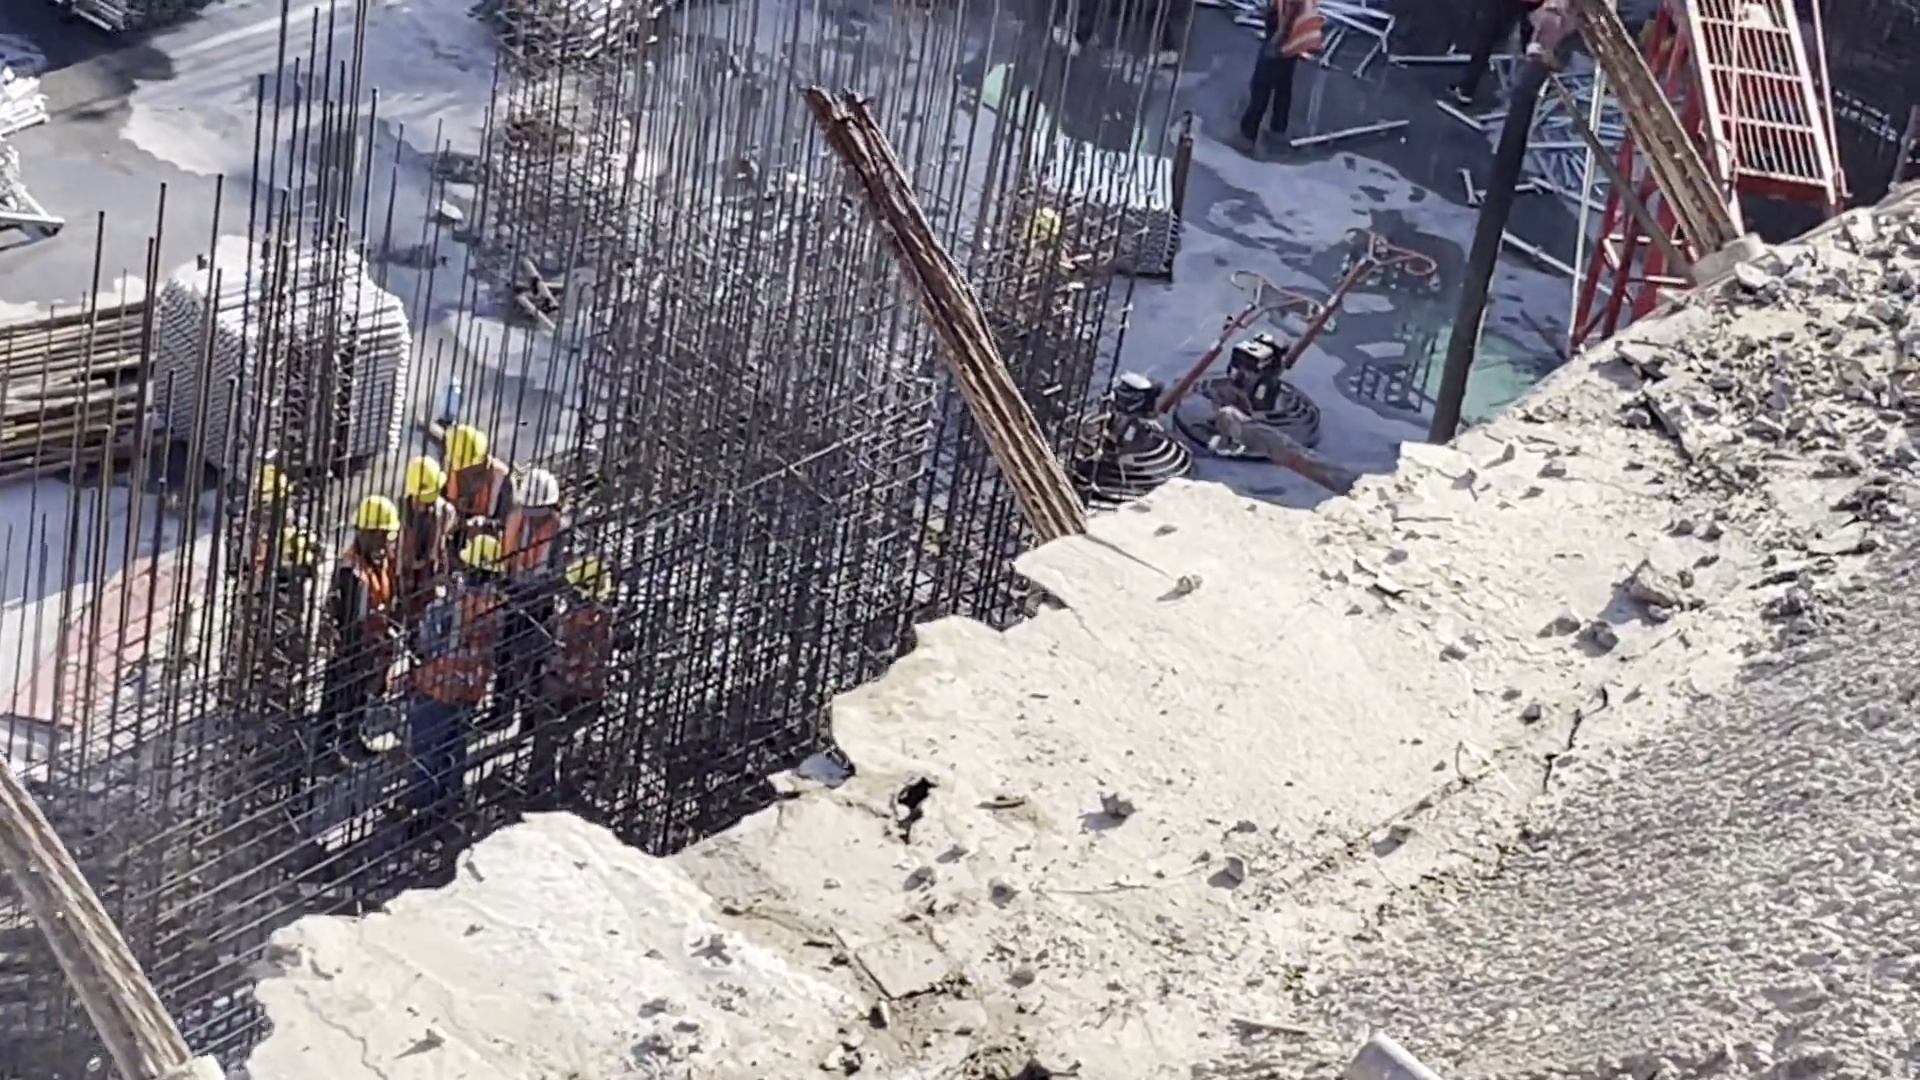helmet: (447, 422, 503, 465), (347, 491, 405, 531), (455, 538, 502, 581), (520, 472, 561, 512), (565, 555, 598, 595), (406, 465, 450, 494)
person: (406, 536, 519, 821), (318, 487, 415, 780), (518, 555, 616, 829), (493, 467, 562, 749), (384, 457, 454, 613), (1243, 1, 1309, 163), (438, 423, 516, 555)
vest: (433, 597, 491, 716), (335, 564, 393, 629), (561, 608, 605, 681), (504, 518, 544, 586), (405, 519, 448, 576), (443, 479, 495, 523)
